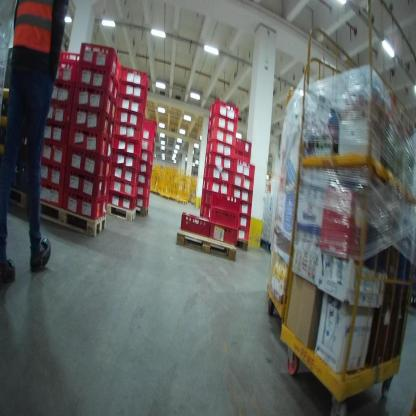pallet: (26, 183, 109, 240), (173, 225, 239, 265), (0, 173, 31, 215), (102, 197, 139, 225), (233, 233, 252, 254), (133, 200, 151, 221)
small_load_carrier: (80, 42, 121, 82), (61, 186, 108, 218), (63, 168, 103, 204), (68, 127, 108, 163), (72, 101, 111, 137), (71, 87, 116, 115), (76, 67, 113, 101), (66, 149, 106, 180), (42, 69, 78, 103), (204, 221, 245, 249), (49, 45, 77, 84), (38, 115, 71, 148), (34, 154, 66, 188), (177, 208, 210, 240), (39, 93, 71, 125), (200, 201, 240, 226), (39, 137, 67, 171), (35, 175, 61, 211), (206, 191, 243, 215), (122, 65, 149, 94), (118, 92, 145, 121), (110, 172, 140, 198), (113, 145, 141, 172), (114, 133, 141, 159), (117, 106, 143, 131), (213, 99, 237, 125), (120, 79, 147, 102), (116, 122, 141, 146), (210, 125, 236, 148), (208, 149, 234, 172), (111, 161, 138, 183), (229, 182, 255, 204), (208, 164, 232, 187), (206, 175, 232, 196), (108, 192, 135, 212), (211, 116, 238, 136), (230, 174, 255, 195), (210, 138, 234, 159), (233, 158, 258, 178), (233, 202, 251, 221), (232, 136, 252, 153), (140, 122, 156, 143), (235, 211, 251, 231), (232, 149, 253, 163), (138, 160, 154, 177), (102, 176, 112, 203), (139, 138, 154, 156), (135, 183, 151, 199), (140, 150, 156, 166), (109, 77, 118, 104), (137, 171, 153, 186), (237, 227, 250, 245), (105, 133, 112, 163), (136, 193, 151, 207), (102, 159, 110, 184), (108, 118, 115, 143), (110, 97, 116, 125), (202, 164, 208, 181), (207, 104, 214, 117), (205, 128, 212, 140), (198, 187, 205, 199), (207, 116, 212, 131), (204, 139, 209, 154), (204, 152, 209, 167), (199, 201, 204, 215), (202, 181, 207, 188)
